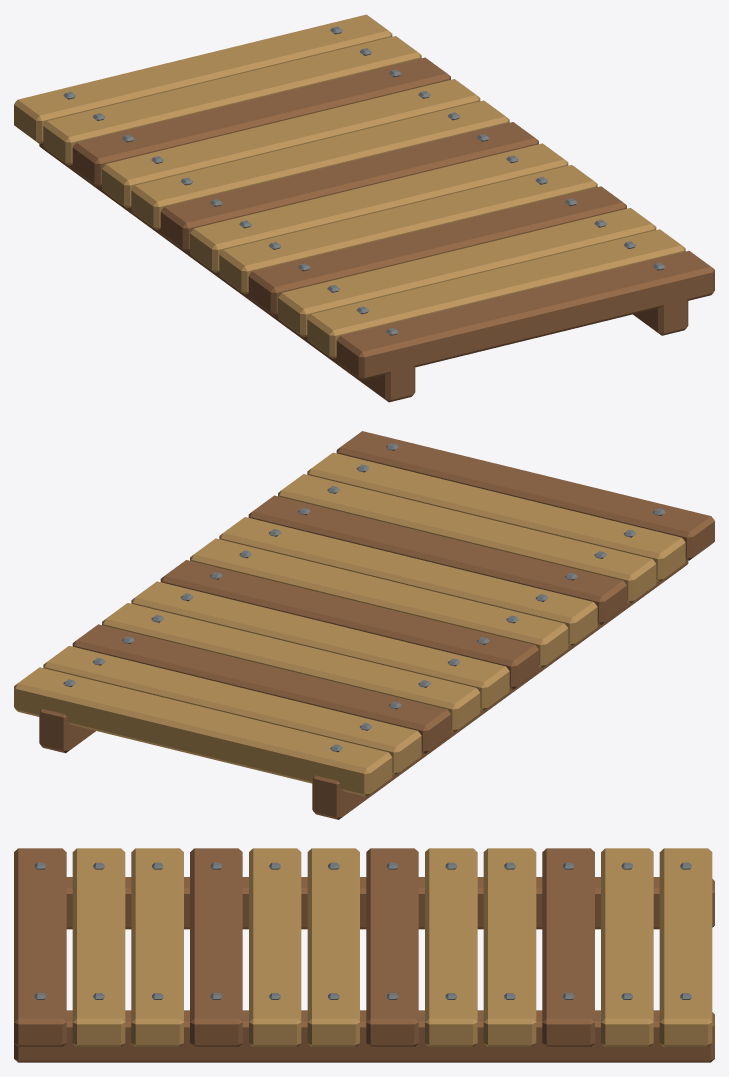
File: FragileBridge.fbx
The picture shows the model from 3 angles, top to bottom: view 1: azimuth 30°, elevation 25°; view 2: azimuth 150°, elevation 25°; view 3: azimuth 270°, elevation 25°; orthographic projection.
Parts seen in each view (by area): view 1: Plank_00, Plank_03, Plank_02, Plank_05, Plank_09, Plank_10, Plank_01, Plank_04, Plank_06, Plank_08, Plank_07, Plank_11 (+2 smaller); view 2: Plank_11, Plank_00, Plank_04, Plank_05, Plank_09, Plank_01, Plank_03, Plank_08, Plank_10, Plank_02, Plank_06, Plank_07 (+2 smaller); view 3: LoadBeam.001, Plank_01, Plank_08, Plank_11, Plank_04, Plank_00, Plank_03, Plank_06, Plank_09, Plank_10, Plank_02, Plank_05 (+2 smaller).
Boxes of the visible parts, x1=… form: Plank_00: x1=336, y1=250, x2=714, y2=380; Plank_03: x1=248, y1=186, x2=626, y2=315; Plank_02: x1=278, y1=208, x2=656, y2=337; Plank_05: x1=190, y1=143, x2=568, y2=272; Plank_09: x1=72, y1=57, x2=450, y2=186; Plank_10: x1=43, y1=36, x2=421, y2=165; Plank_01: x1=307, y1=229, x2=685, y2=358; Plank_04: x1=219, y1=165, x2=597, y2=294; Plank_06: x1=160, y1=122, x2=538, y2=251; Plank_08: x1=102, y1=79, x2=480, y2=208; Plank_07: x1=131, y1=100, x2=509, y2=229; Plank_11: x1=14, y1=14, x2=392, y2=143; Plank_11: x1=14, y1=667, x2=392, y2=796; Plank_00: x1=336, y1=431, x2=714, y2=560; Plank_04: x1=219, y1=517, x2=597, y2=646; Plank_05: x1=190, y1=538, x2=568, y2=667; Plank_09: x1=72, y1=624, x2=450, y2=753; Plank_01: x1=307, y1=452, x2=685, y2=581; Plank_03: x1=248, y1=495, x2=626, y2=624; Plank_08: x1=102, y1=603, x2=480, y2=732; Plank_10: x1=43, y1=646, x2=421, y2=775; Plank_02: x1=278, y1=474, x2=656, y2=603; Plank_06: x1=160, y1=560, x2=538, y2=689; Plank_07: x1=131, y1=581, x2=509, y2=710; LoadBeam.001: x1=14, y1=1010, x2=714, y2=1062; Plank_01: x1=72, y1=848, x2=125, y2=1046; Plank_08: x1=483, y1=848, x2=536, y2=1046; Plank_11: x1=659, y1=848, x2=712, y2=1046; Plank_04: x1=249, y1=848, x2=301, y2=1046; Plank_00: x1=14, y1=848, x2=66, y2=1046; Plank_03: x1=190, y1=848, x2=242, y2=1046; Plank_06: x1=366, y1=848, x2=418, y2=1046; Plank_09: x1=542, y1=848, x2=594, y2=1046; Plank_10: x1=601, y1=848, x2=653, y2=1046; Plank_02: x1=131, y1=848, x2=183, y2=1046; Plank_05: x1=307, y1=848, x2=359, y2=1046.
Size of the model in its own units: 2.35 by 0.387 by 4.
